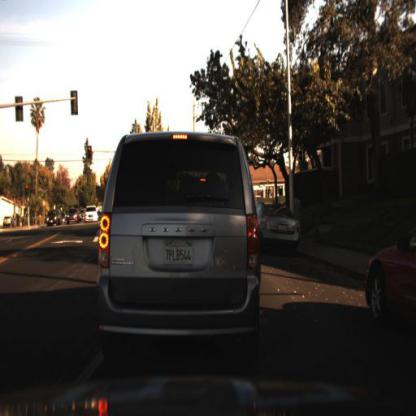car: (102, 135, 258, 351), (366, 215, 416, 344), (252, 202, 300, 245), (104, 194, 121, 231), (83, 203, 103, 226), (65, 209, 80, 227), (47, 209, 61, 228), (2, 212, 14, 231), (80, 206, 89, 224), (60, 207, 68, 227)
pedestrian: (290, 187, 308, 227), (291, 189, 305, 235)
trafficLight: (239, 145, 253, 170)
trafficLight-Red: (22, 179, 31, 197)
trafficLight-RedLeft: (87, 144, 95, 167), (24, 184, 31, 204)
